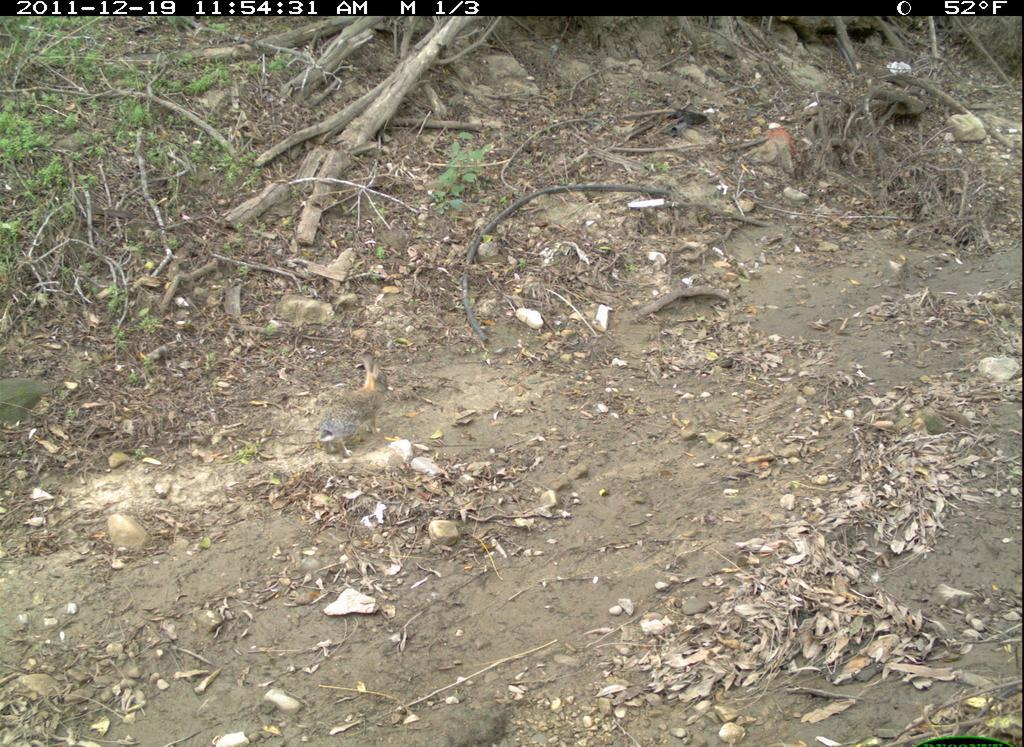rabbit: (301, 351, 410, 472)
